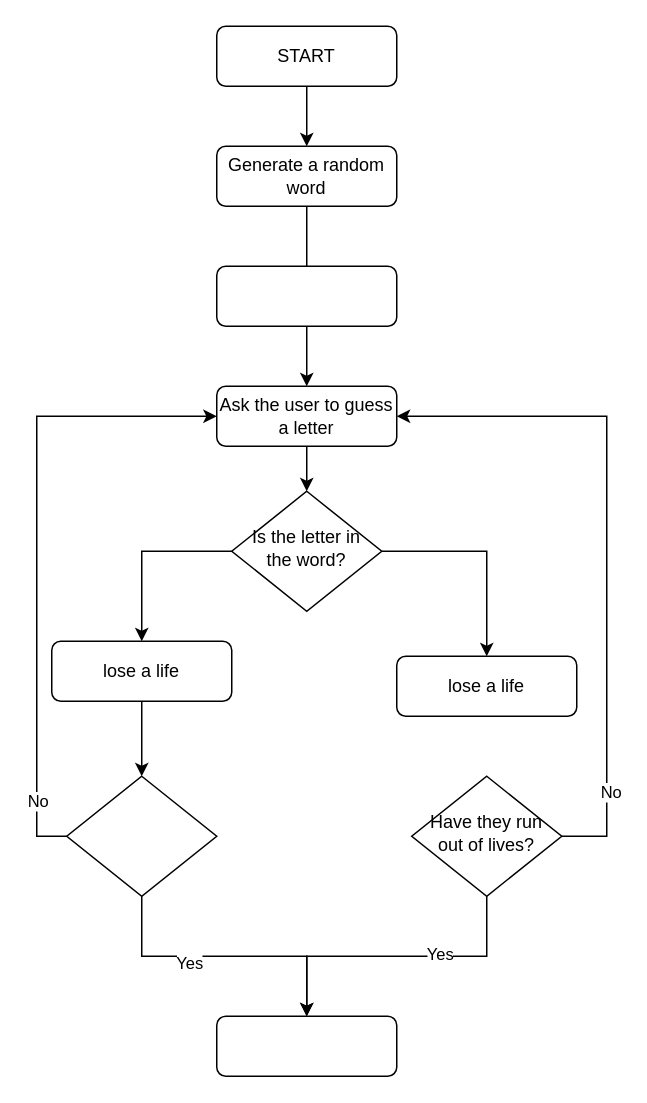
This 647x1103 diagram has some shape labels left out. Here are the shapes that lost their labels. From the top down, the box of each, then its label:
(215, 265, 397, 326): Generate blanks for each letter of the word
(65, 775, 217, 896): Are all the blanks filled?
(215, 1015, 397, 1076): Game over
